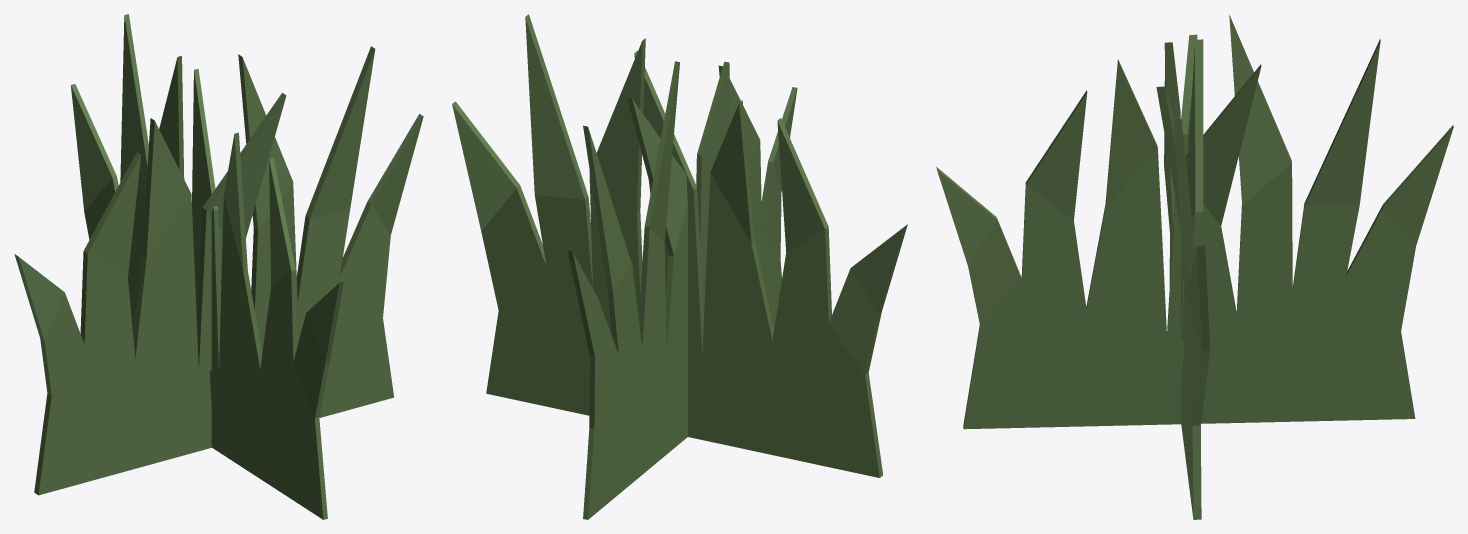
File: H_Grass.fbx
3 views of the same model, side by side, from view 1: azimuth 30°, elevation 25°; view 2: azimuth 150°, elevation 25°; view 3: azimuth 270°, elevation 25° (orthographic). The views are drawn at different scales.
Parts seen in each view (by area): view 1: H_Grass; view 2: H_Grass; view 3: H_Grass.
Boxes of the visible parts, bbox=[...] form: H_Grass: bbox=[14, 14, 423, 519]; H_Grass: bbox=[452, 14, 907, 519]; H_Grass: bbox=[936, 15, 1453, 519].
Bounding box in the file's own units: 37.56 × 32.19 × 37.55.
